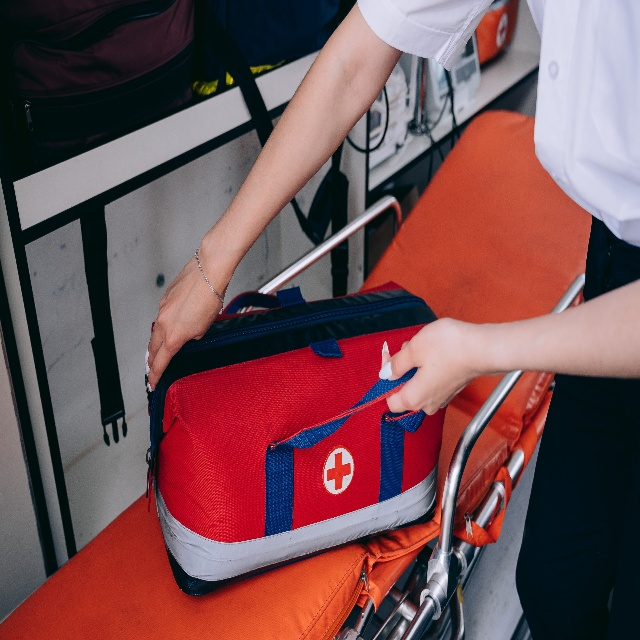Sin_guantes: (140, 252, 223, 389), (378, 317, 472, 415)
